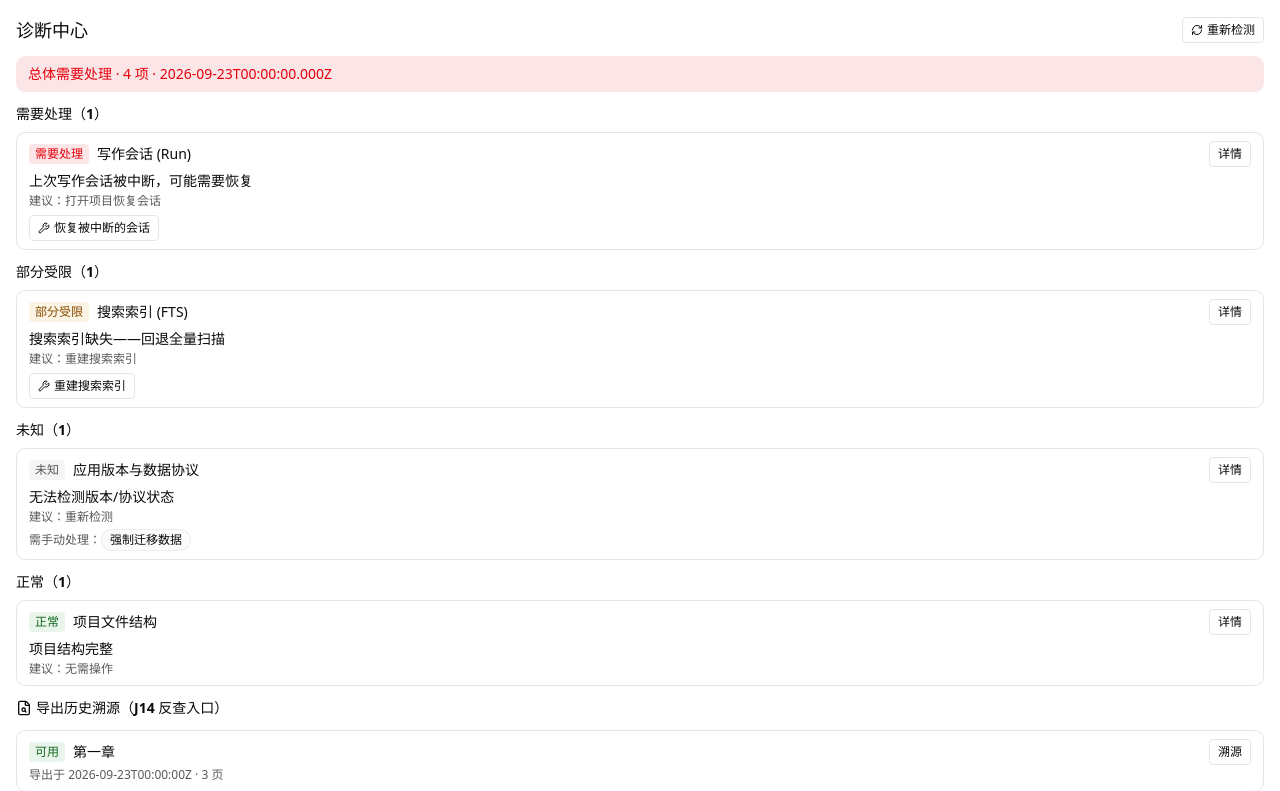
Test: DiagnosticsCenter — 统一健康视图 › 详情展开显示证据来源/错误码/检测时间
The image size is (1280, 791).
Click the button with test id "health-expand-run".
click(1230, 154)  # box [1209, 141, 1251, 167]
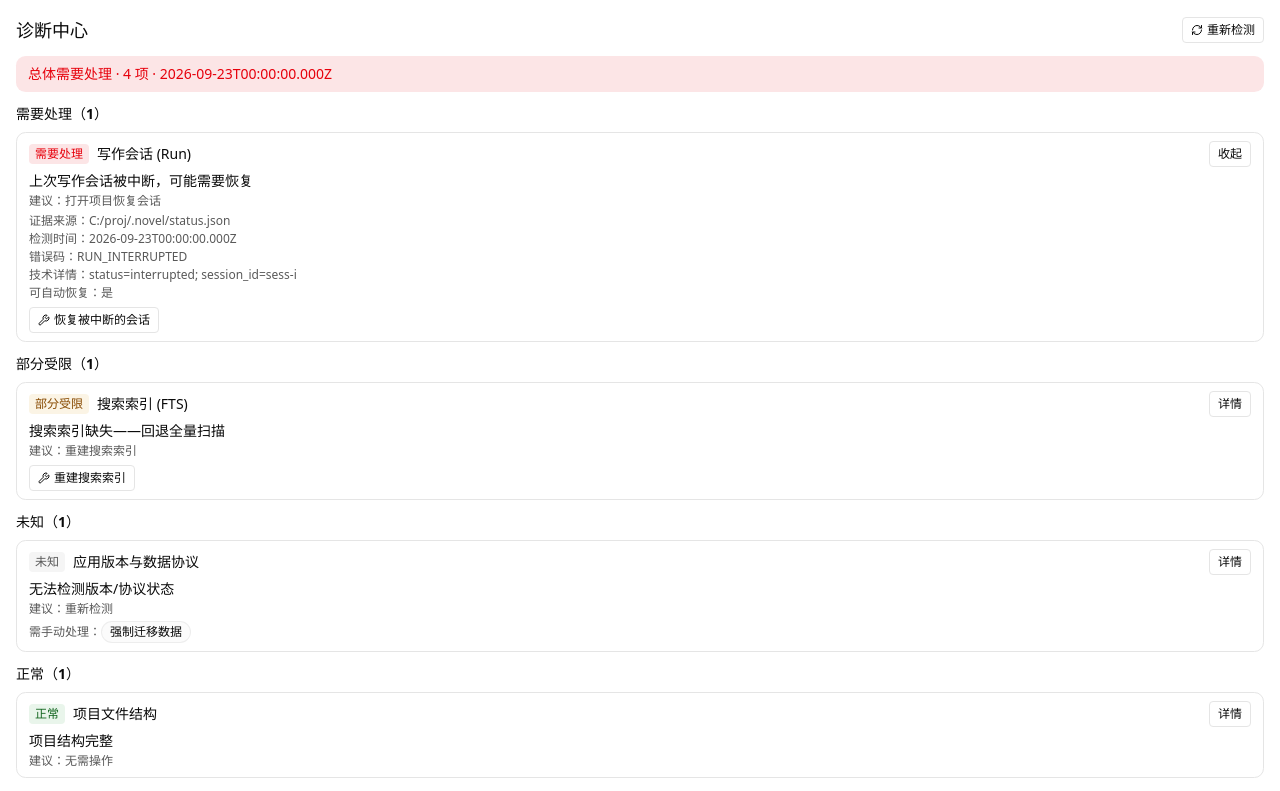
Now the text with test id "health-evidence-run" shows "status.json", box [89, 212, 230, 229]
Now the text with test id "health-error-run" shows "RUN_INTERRUPTED", box [77, 248, 187, 265]
